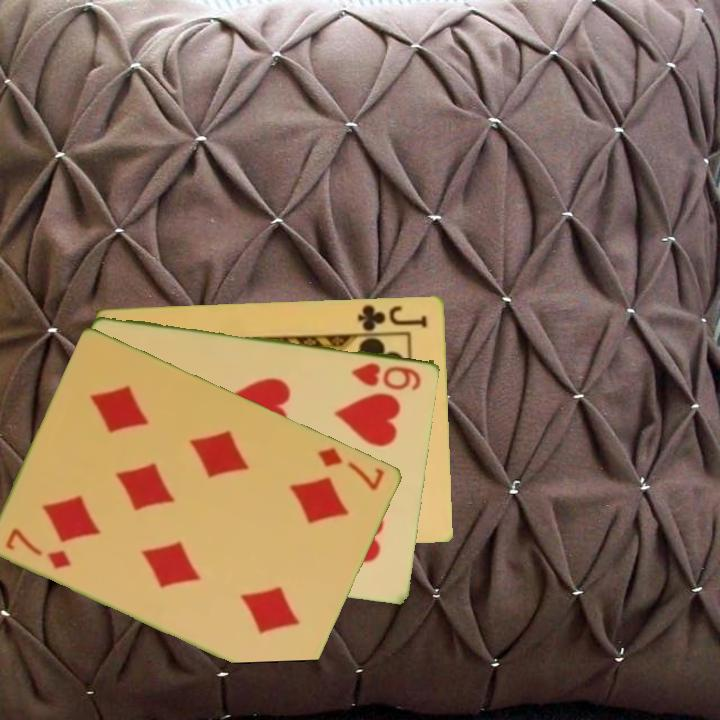6h: (348, 358, 424, 394)
7d: (315, 444, 388, 494), (2, 524, 75, 572)
Jc: (354, 301, 431, 333)
